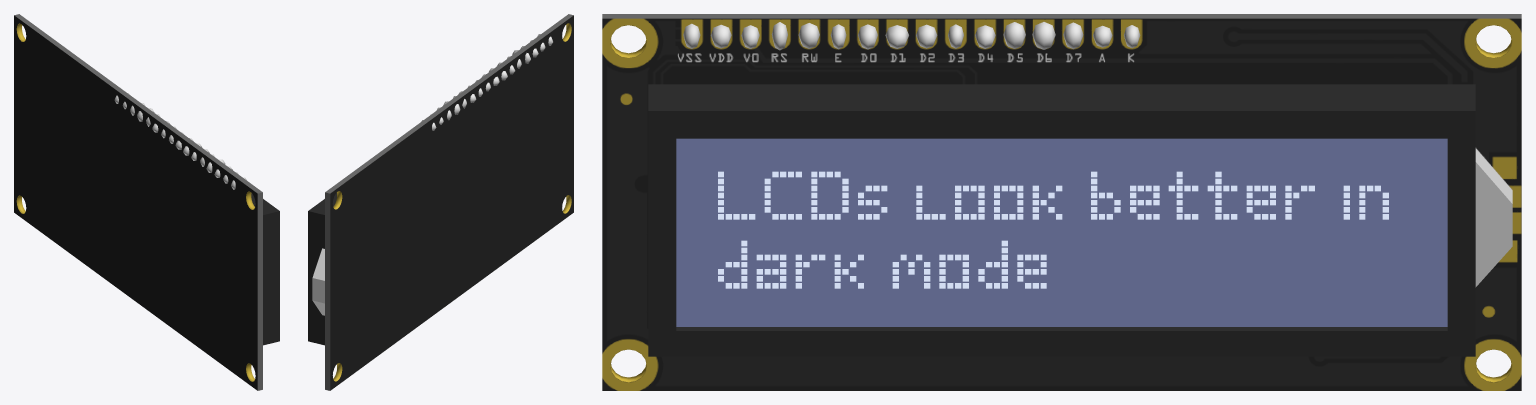
Rendered from LCDBW.glb.
The picture shows the model from 3 angles, left to right: view 1: azimuth 30°, elevation 25°; view 2: azimuth 150°, elevation 25°; view 3: azimuth 270°, elevation 25°; orthographic projection. The views are drawn at different scales.
Visible parts, largest first — view 1: PCB; view 2: PCB; view 3: PCB, Text.
Boxes of the visible parts, x1,y1,x2,y2 form: PCB: (14,14,279,390); PCB: (308,14,573,390); PCB: (602,14,1521,390); Text: (718,171,1388,288).
Bounding box in the file's own units: 7.4 × 36 × 80.6.
5 materials, 1 textured.
